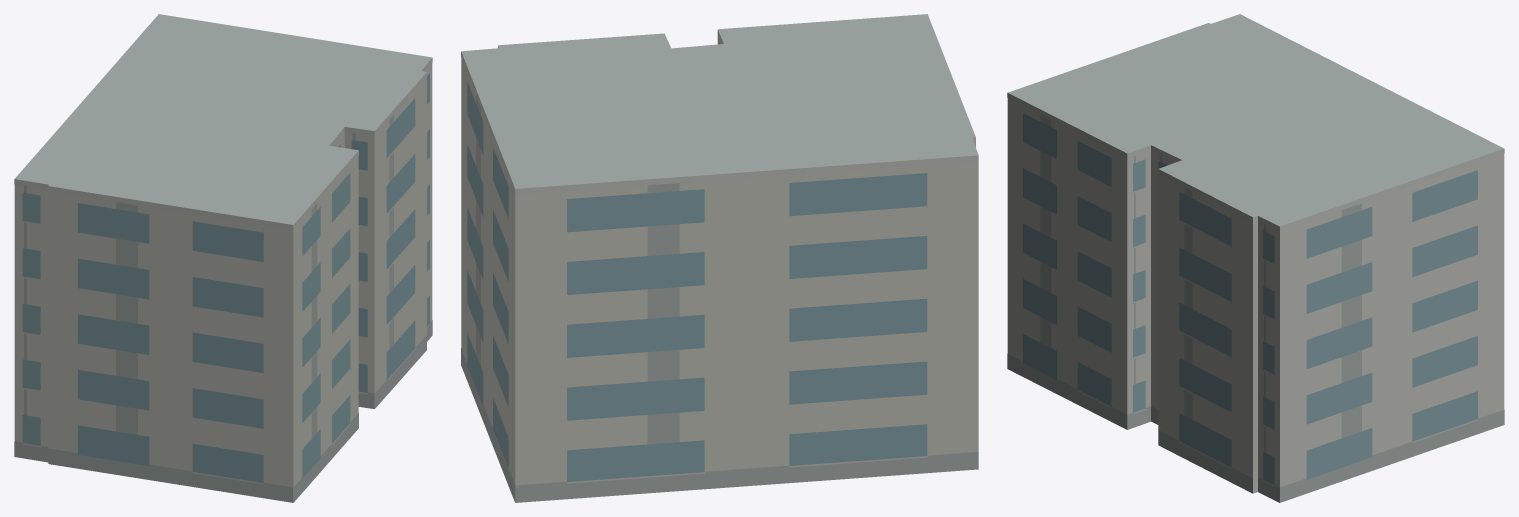
The model's file is survey-upis-32839546.glb.
3 views of the same model, side by side, from view 1: azimuth 30°, elevation 25°; view 2: azimuth 150°, elevation 25°; view 3: azimuth 270°, elevation 25° (orthographic). The views are drawn at different scales.
Visible parts, largest first — view 1: survey-upis-32839546.tmp; view 2: survey-upis-32839546.tmp; view 3: survey-upis-32839546.tmp.
Boxes of the visible parts, x1,y1,x2,y2 form: survey-upis-32839546.tmp: (14,14,432,502); survey-upis-32839546.tmp: (461,14,978,502); survey-upis-32839546.tmp: (1007,14,1504,502).
Bounding box in the file's own units: 21.12 × 12.8 × 20.86.
